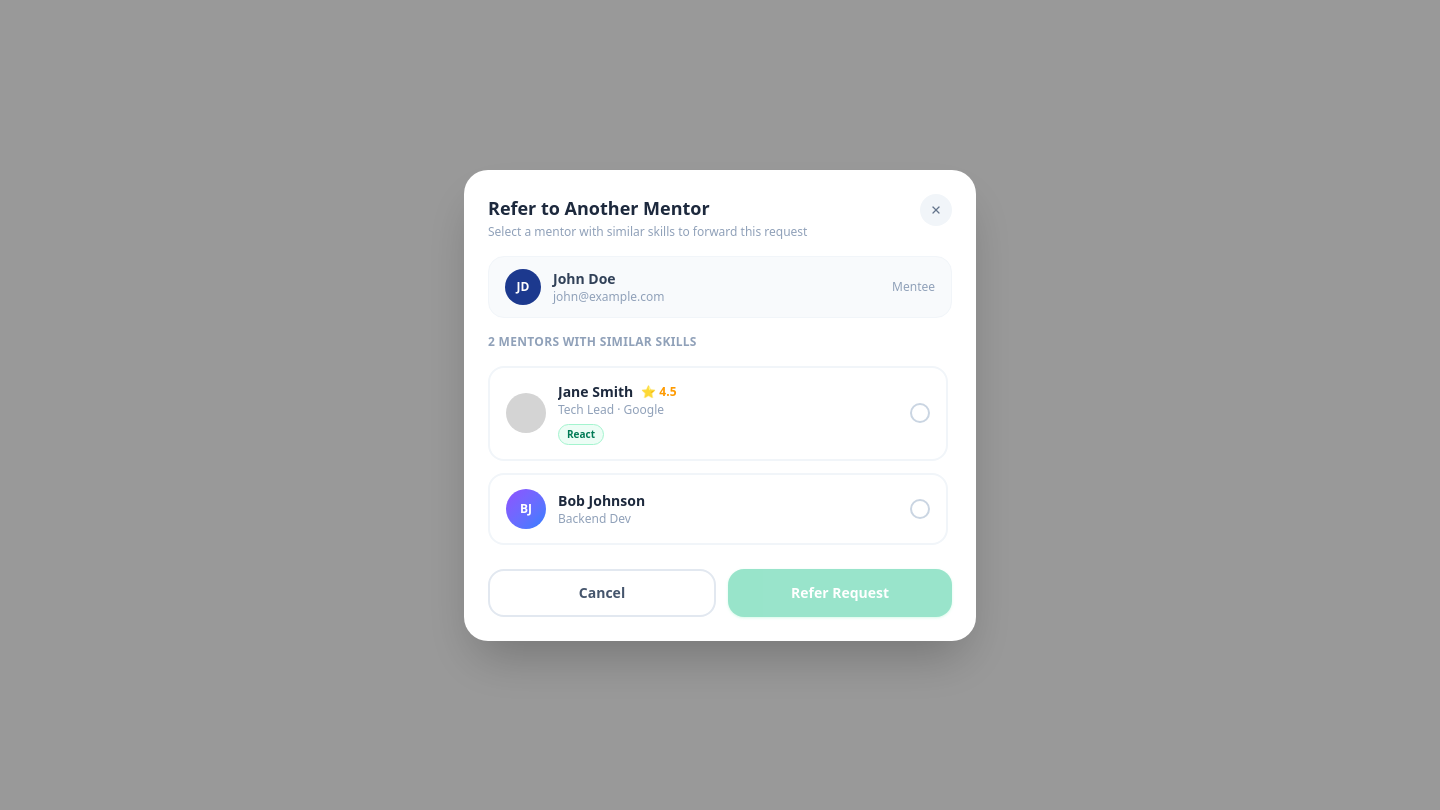
Test case: ReferModal Component › handles submit referral failures
Click the button "Jane Smith ⭐ 4.5 Tech Lead · Google React": (526, 413) x1=488 y1=366 x2=948 y2=460
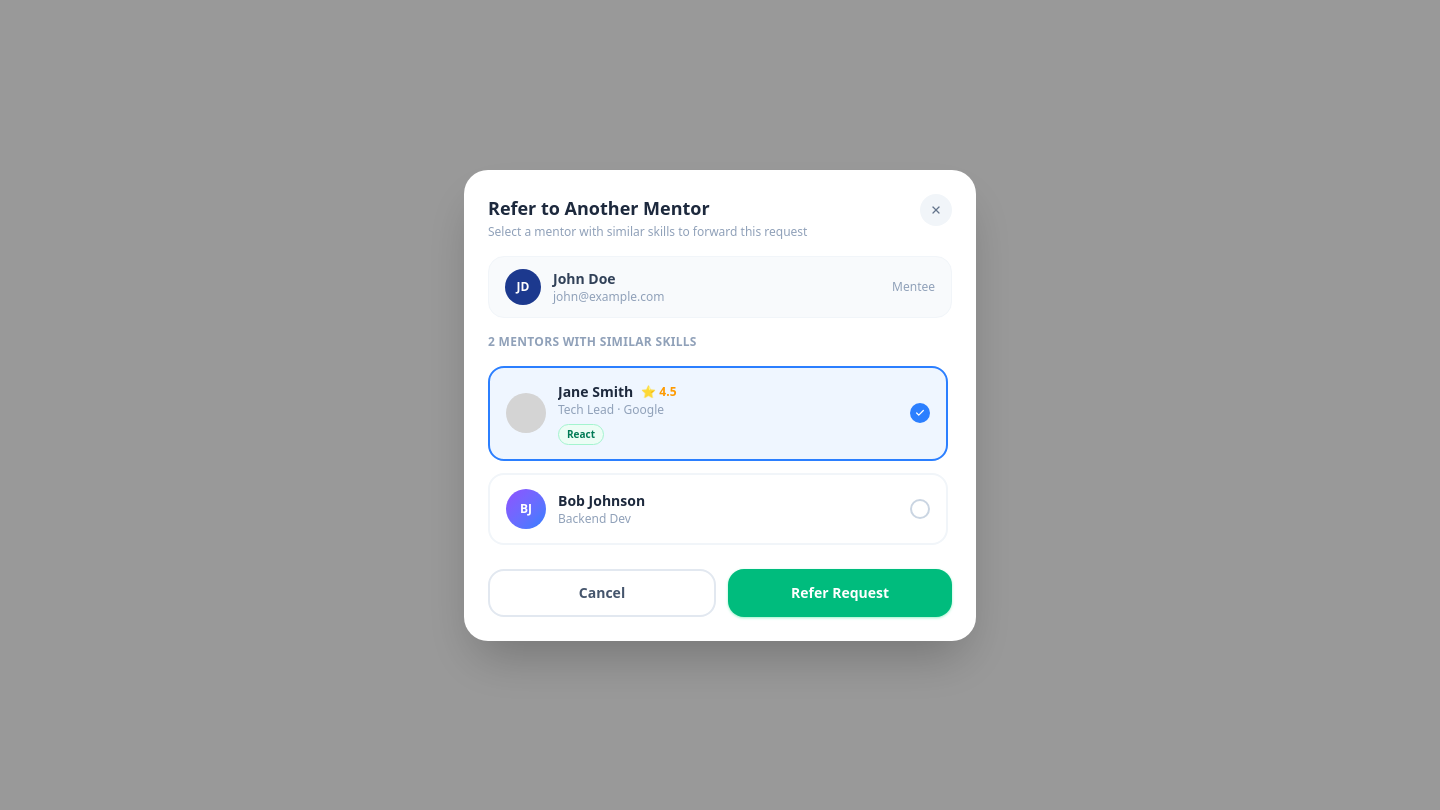
Click the button "Refer Request": (840, 592) x1=728 y1=568 x2=952 y2=616
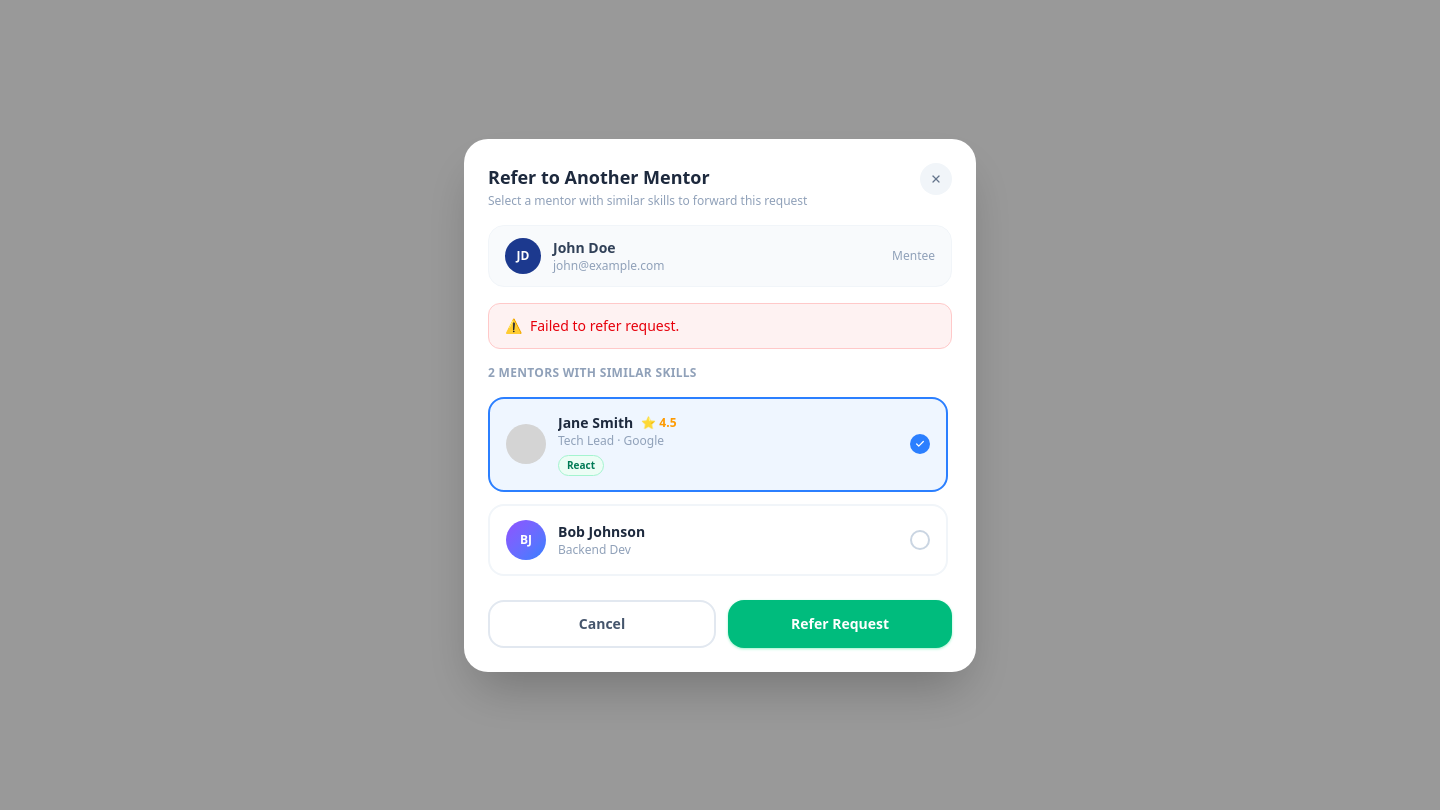
Now the text "Failed to refer request." is shown, box x1=530 y1=316 x2=679 y2=334
